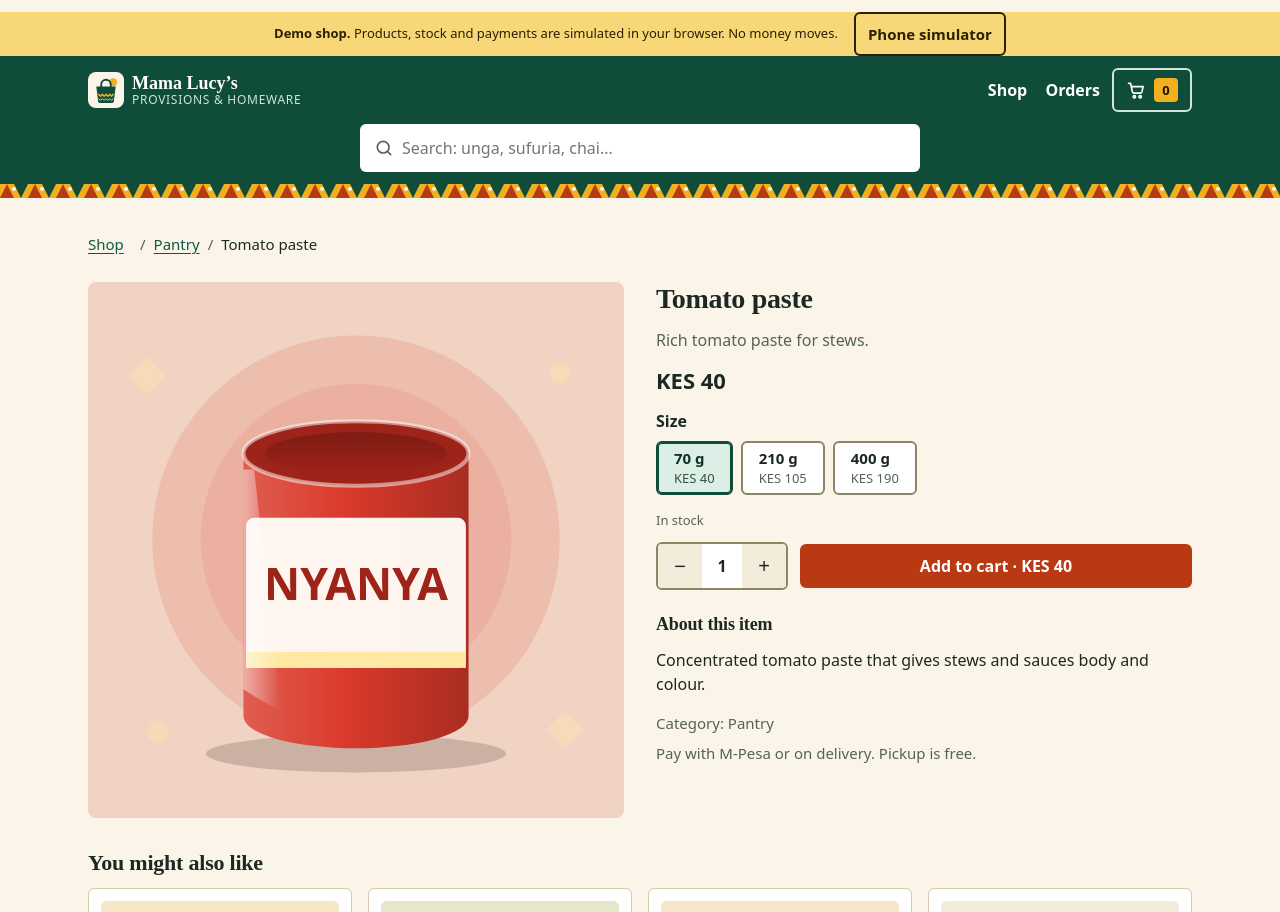
Scenario: product page › never lets you add more than is in stock
The image size is (1280, 912).
What coordinates should you click on to do the following:
click the radio button labelled "400 g KES 190"
I would click on:
 (875, 468)
Its box is [833,441,917,495].
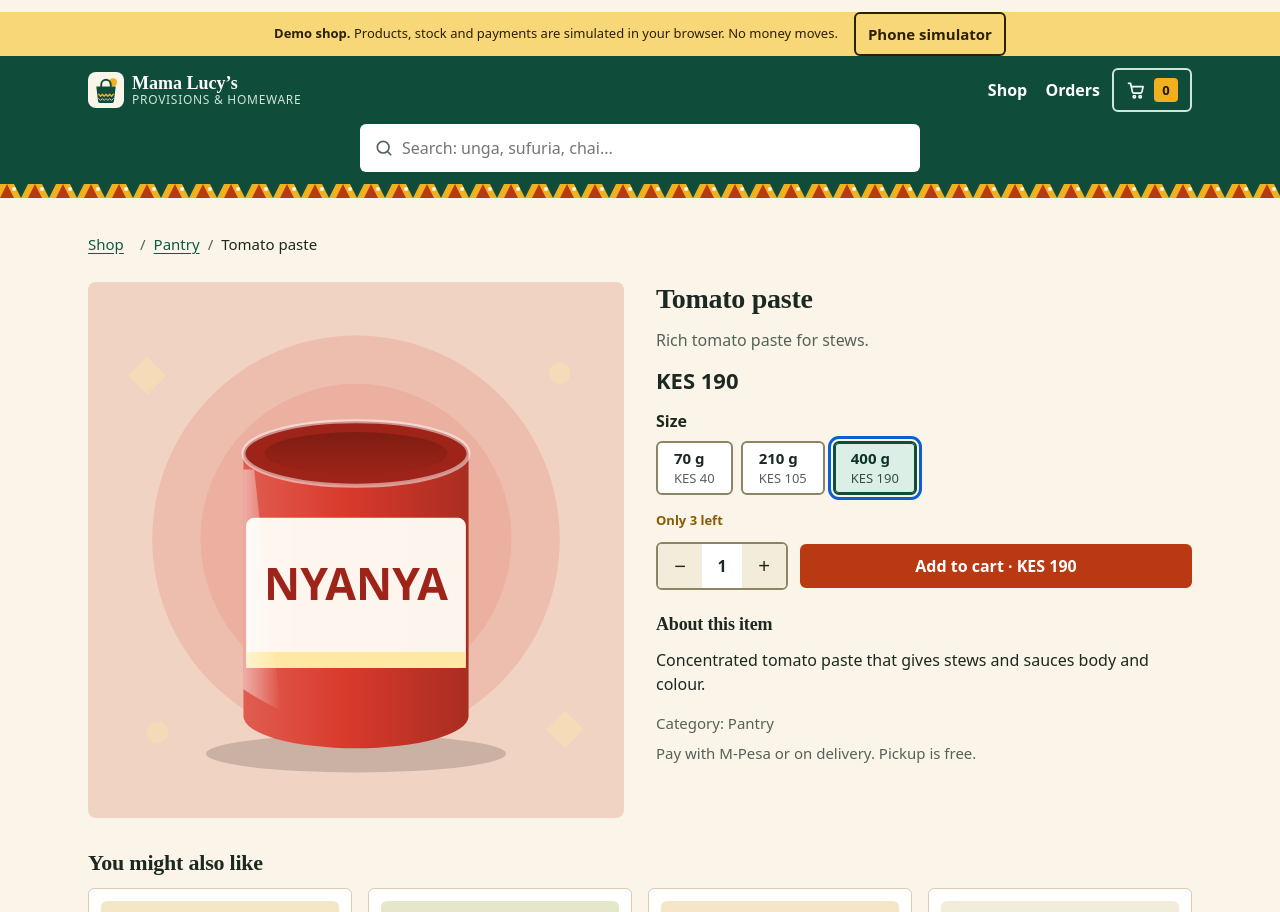
Result: the text with test id "stock" reads "Only 3 left" at [656,511,723,529]
What coordinates should you click on to do the following:
click the button named "Increase quantity"
I would click on:
 (764, 566)
Its box is [742,544,786,588].
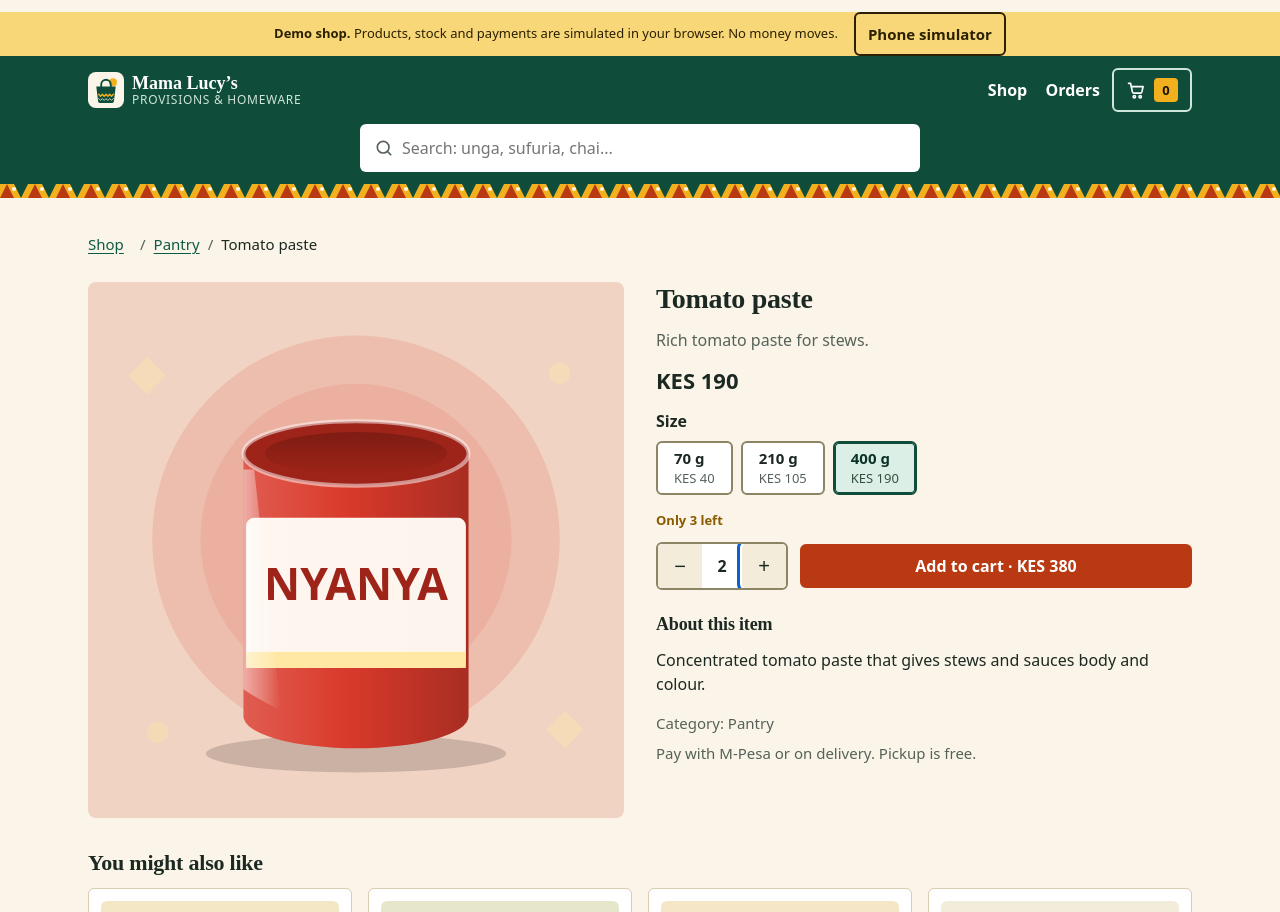
What coordinates should you click on to do the following:
click the button named "Increase quantity"
I would click on:
 (764, 566)
Its box is [742,544,786,588].
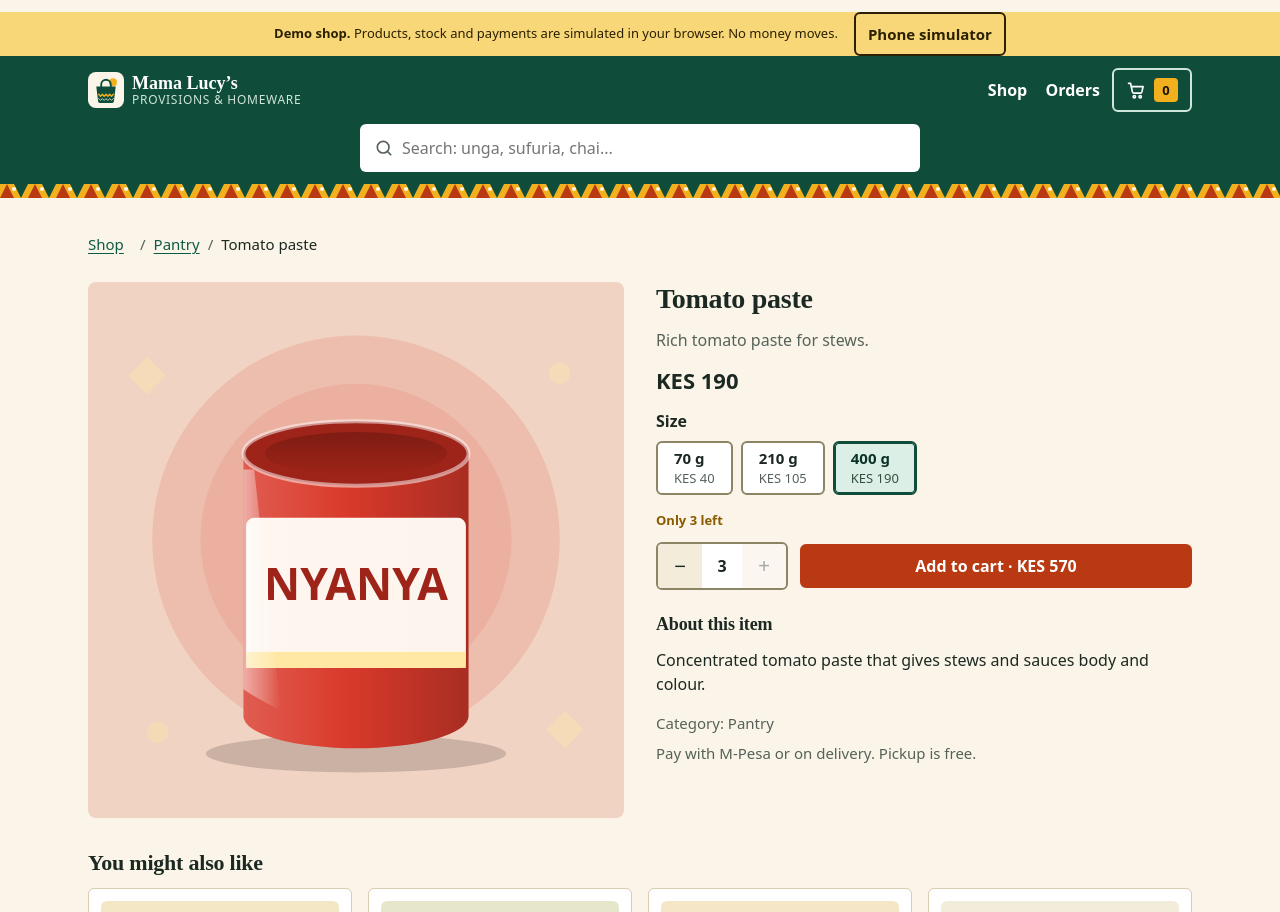
Result: the button named "Increase quantity" is disabled at [742,544,786,588]
What coordinates should you click on to do the following:
click the button "Add to cart · KES 570"
I would click on:
 (996, 566)
Its box is [800,544,1192,588].
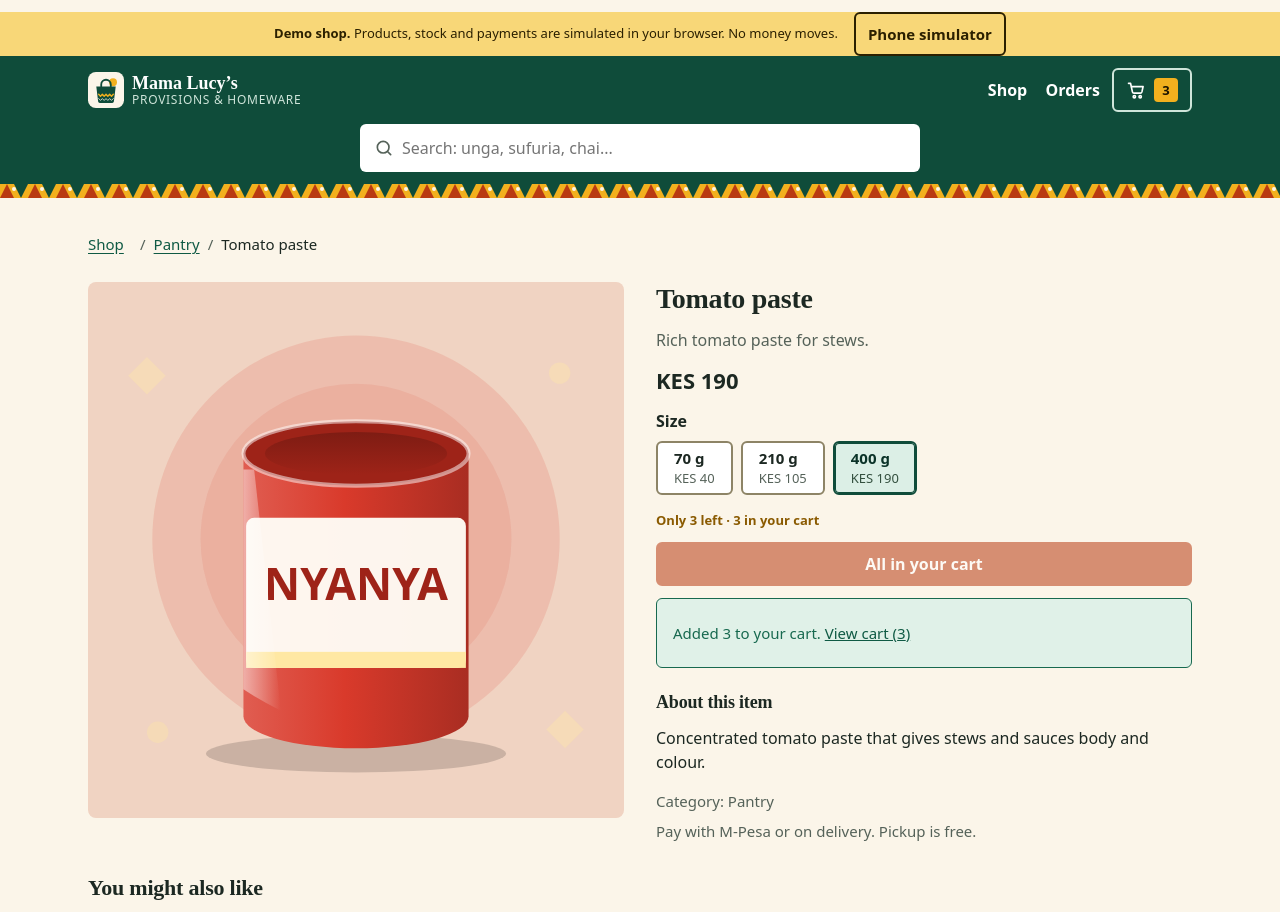
Result: the button "All in your cart" is disabled at [656,542,1192,586]
Result: the text with test id "stock" shows "3 in your cart" at [723,511,819,529]
